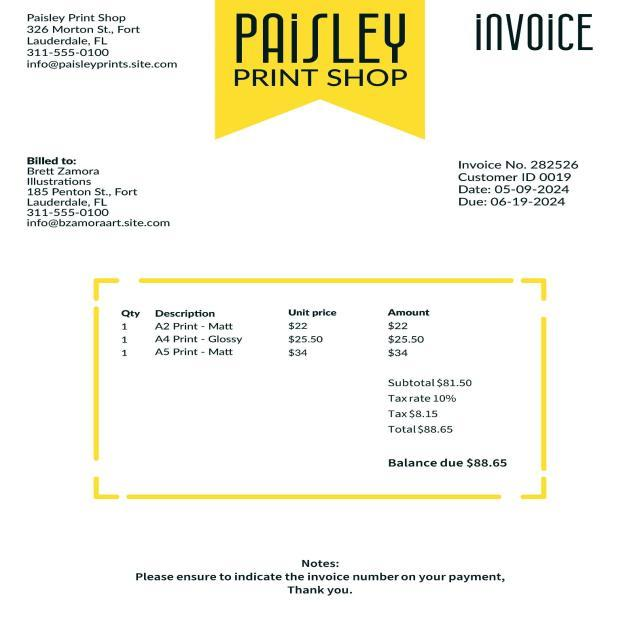ROI: (208, 0, 432, 146), (114, 549, 520, 615), (109, 296, 453, 365), (16, 150, 187, 238), (378, 373, 512, 472), (23, 13, 181, 78), (456, 157, 590, 216), (466, 9, 604, 62)
